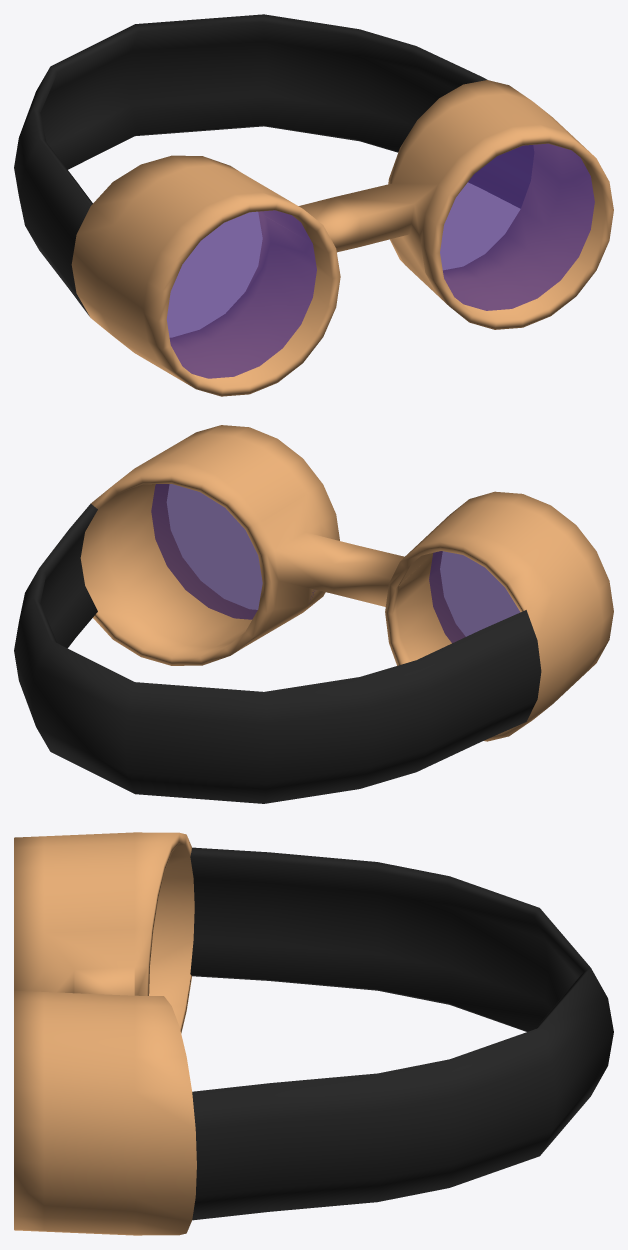
Rendered from Lentes.fbx.
The picture shows the model from 3 angles, top to bottom: view 1: azimuth 30°, elevation 25°; view 2: azimuth 150°, elevation 25°; view 3: azimuth 270°, elevation 25°; orthographic projection. The views are drawn at different scales.
Visible parts, largest first — view 1: Armason, Cuerda, Lente; view 2: Armason, Cuerda, Lente; view 3: Cuerda, Armason.
Boxes of the visible parts, x1=… form: Armason: x1=71, y1=80, x2=613, y2=396; Cuerda: x1=14, y1=14, x2=533, y2=316; Lente: x1=166, y1=143, x2=594, y2=378; Armason: x1=80, y1=425, x2=613, y2=741; Cuerda: x1=14, y1=503, x2=541, y2=803; Lente: x1=151, y1=484, x2=520, y2=643; Cuerda: x1=190, y1=847, x2=613, y2=1220; Armason: x1=14, y1=832, x2=196, y2=1235.
Size of the model in its own units: 520 by 200 by 497.
